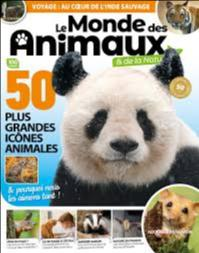Non_Gorille: (32, 24, 199, 242)
